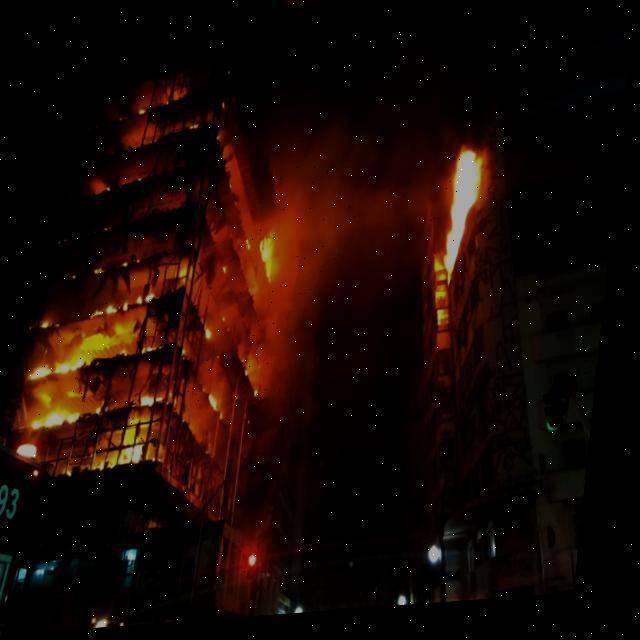Fire: (16, 197, 293, 491), (434, 144, 497, 327)
